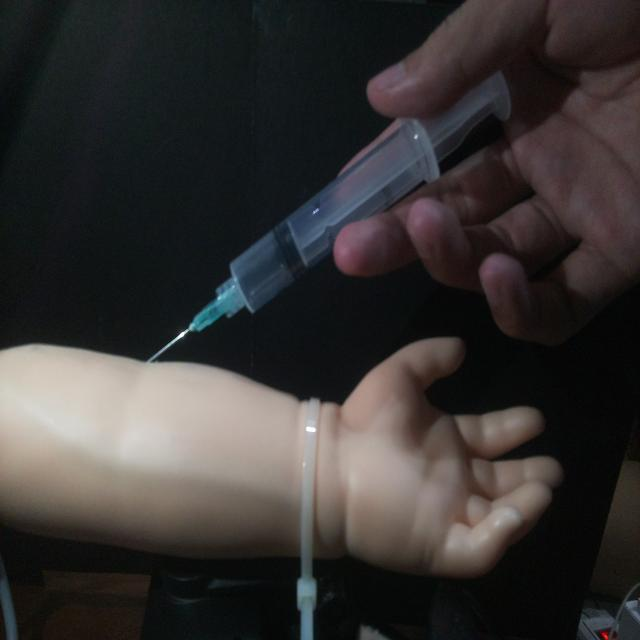26deg: (141, 65, 515, 366)
